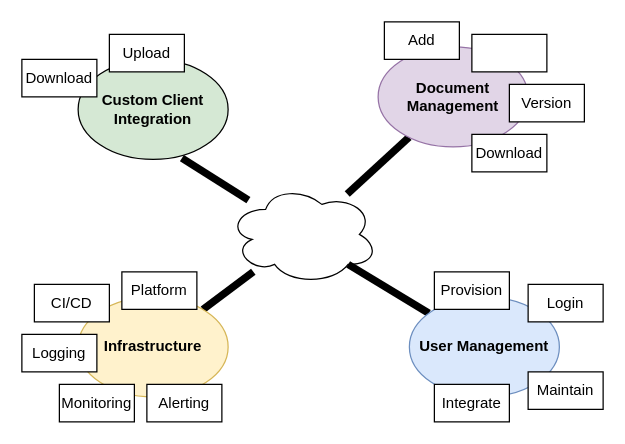
Some shapes in this 625 by 444 pixel diagram are drawn without their labels. The box of each missing label's shape, as (x1, y1, x2, y2) in pixels:
Tasks: (471, 33, 547, 72)
The System?: (227, 183, 378, 284)
